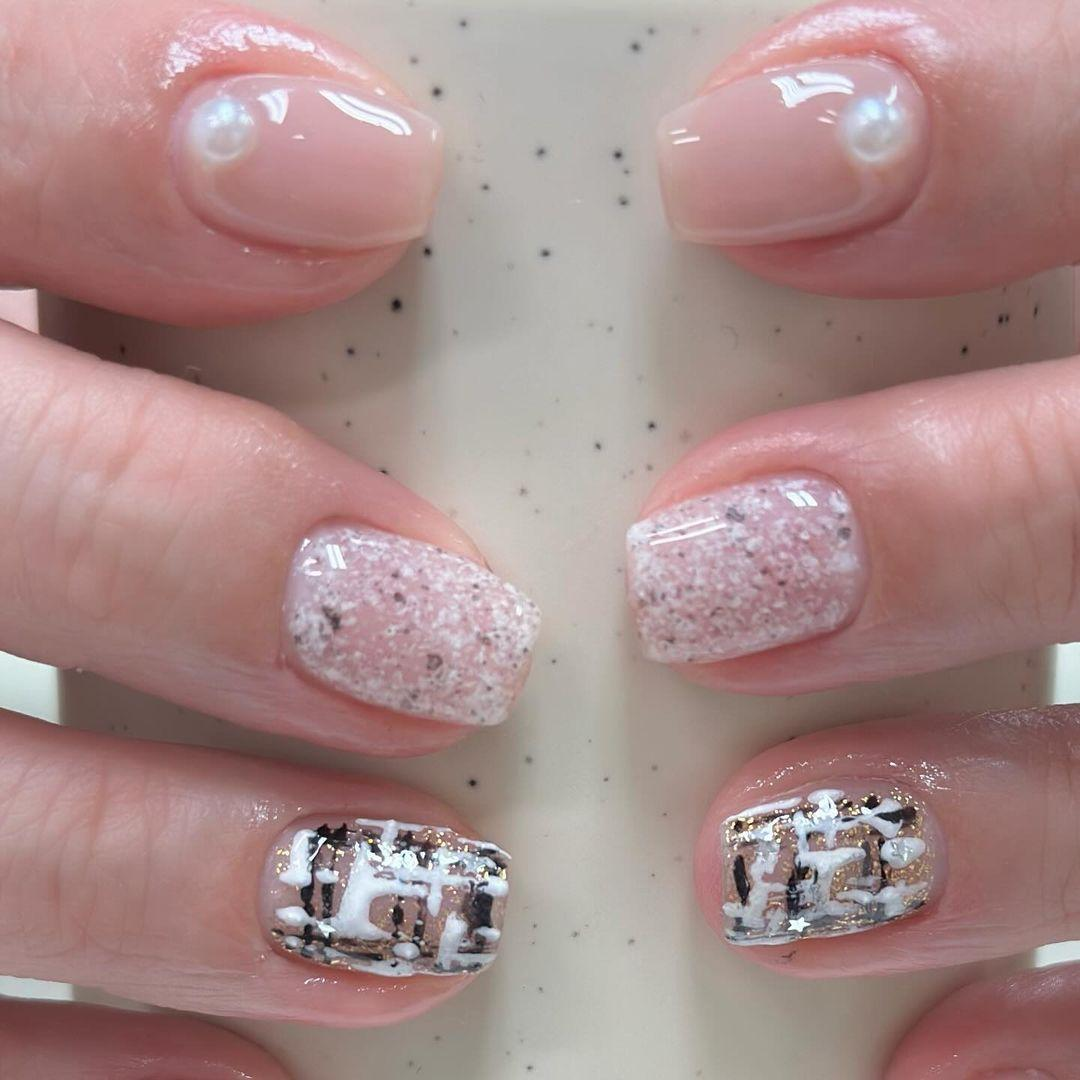nail: (1, 0, 445, 327), (653, 48, 932, 248), (278, 516, 540, 728), (623, 466, 870, 665)
